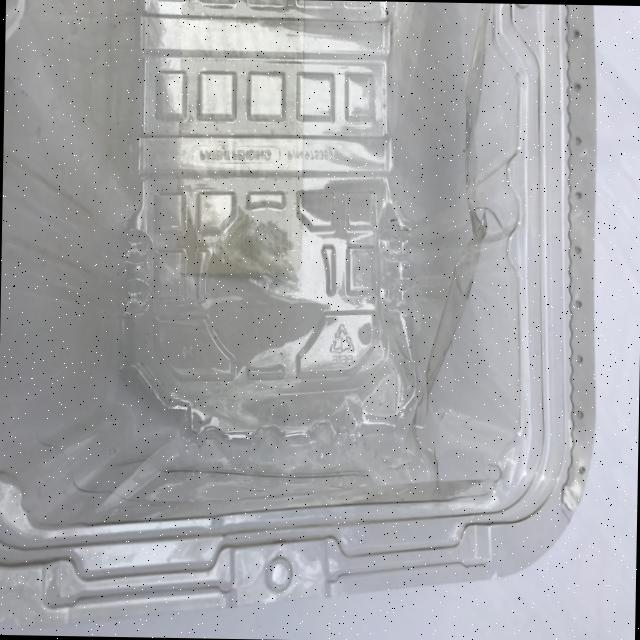plastic: (0, 0, 602, 640)
